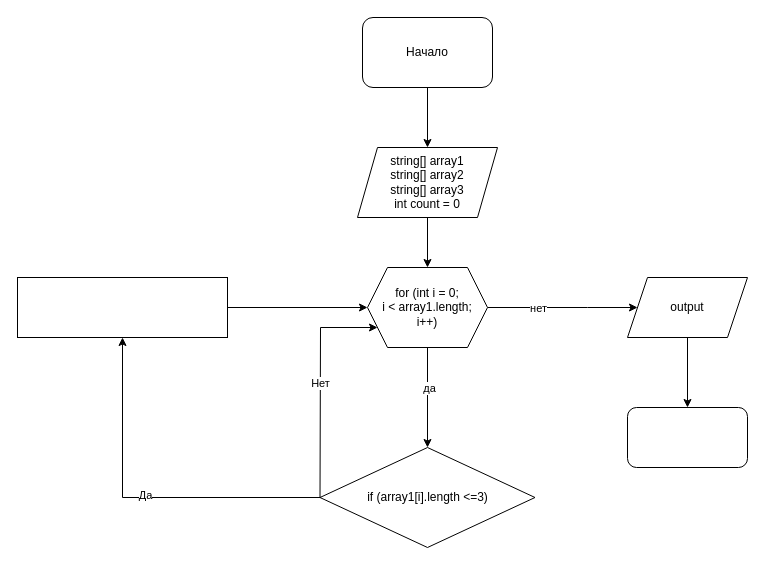
The diagram is 765 pixels wide and 565 high, and some of its shapes have lost their labels. The shapes that lost their labels are listed below. From the top down, each one's centre as x and y in pixels, then its label:
At point 122,307: "array2[count] = array1[i] count++;".
At point 687,437: "конец".
